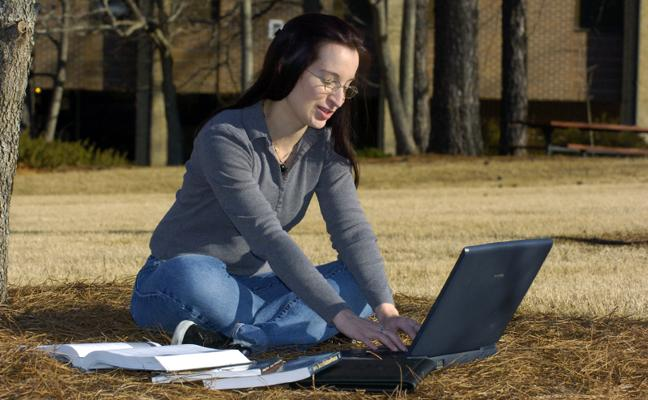person: (126, 11, 429, 353)
